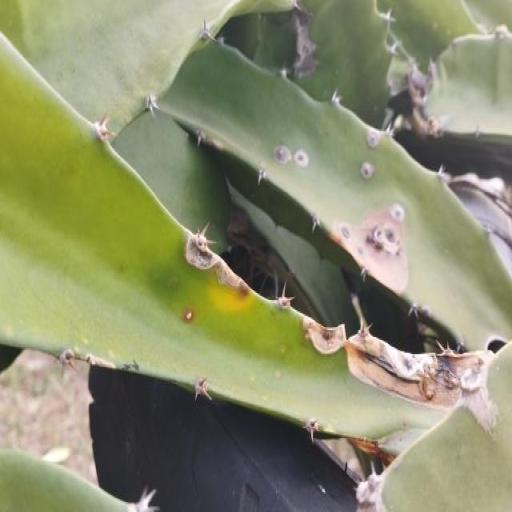stemcanker: (264, 414, 291, 476), (282, 307, 308, 347), (172, 252, 184, 295), (187, 274, 195, 294)
